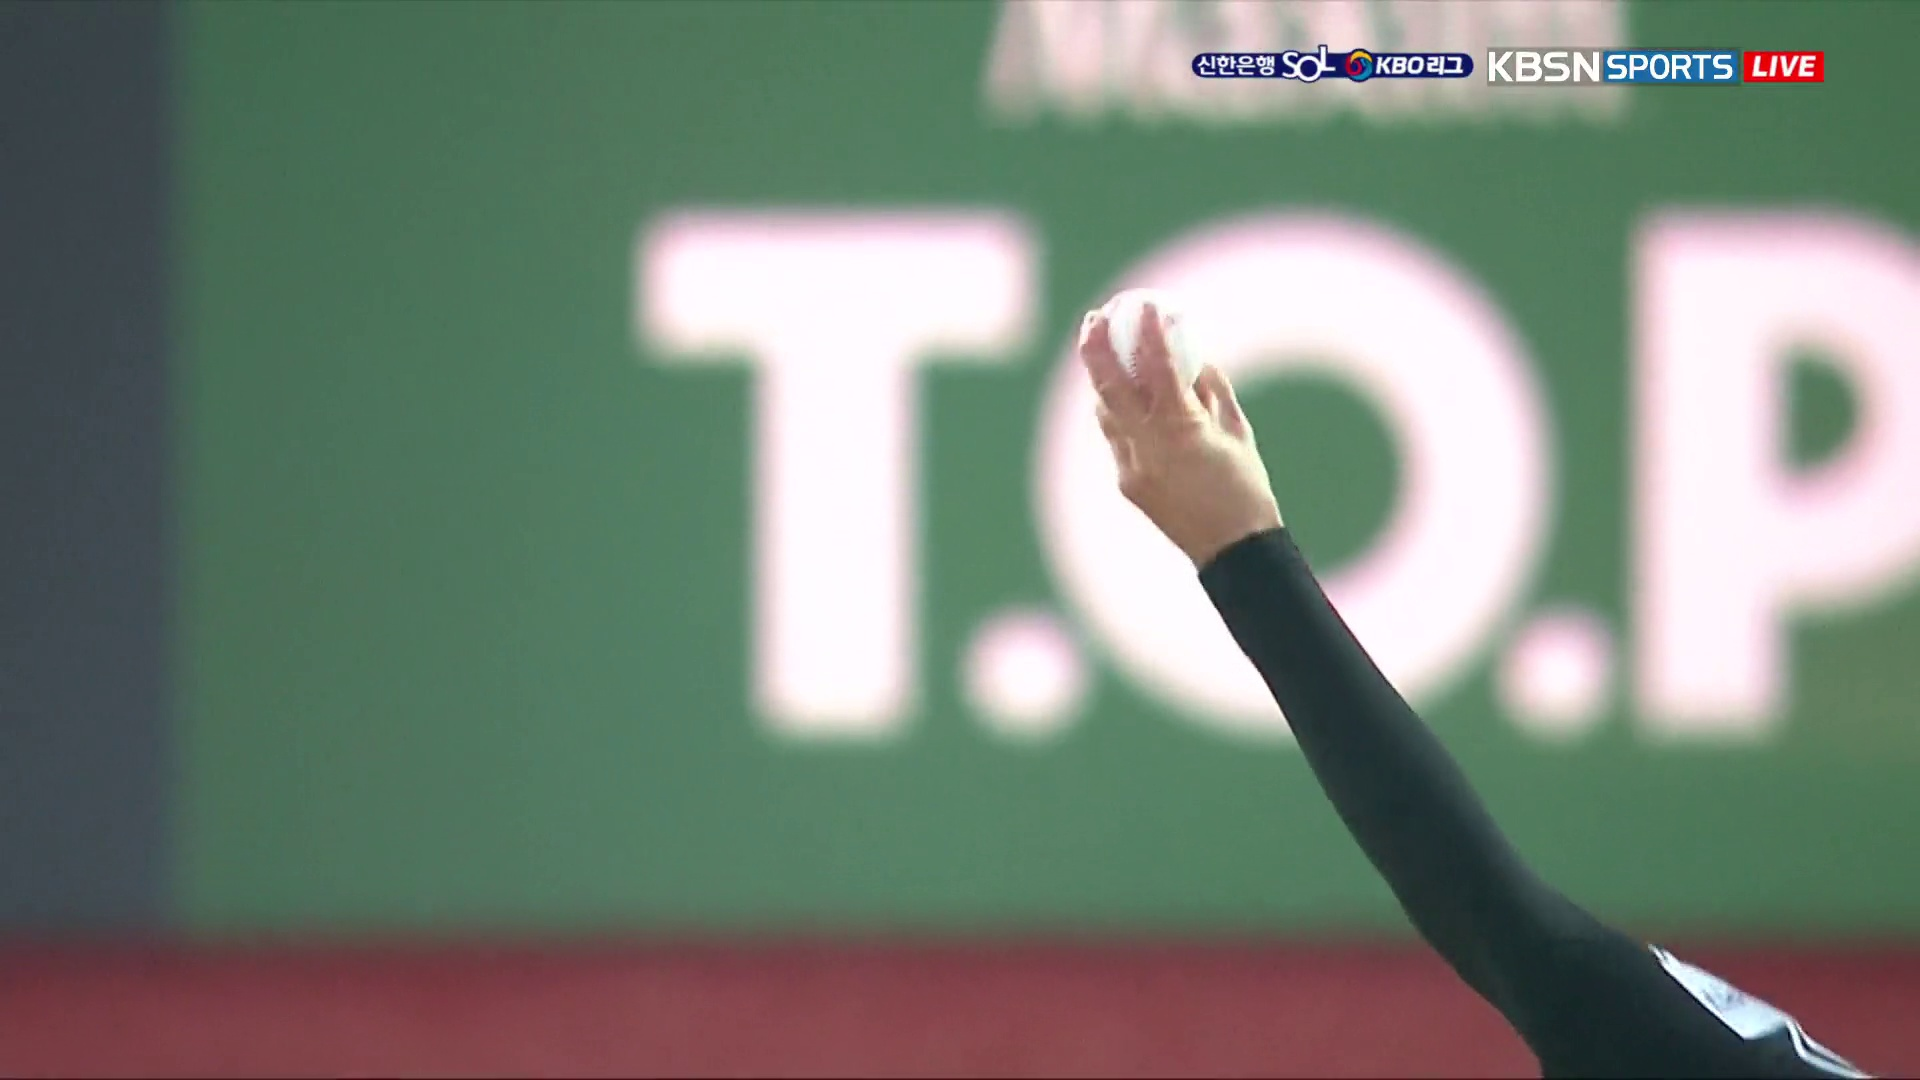zoomin_hand: (1068, 282, 1542, 923)
